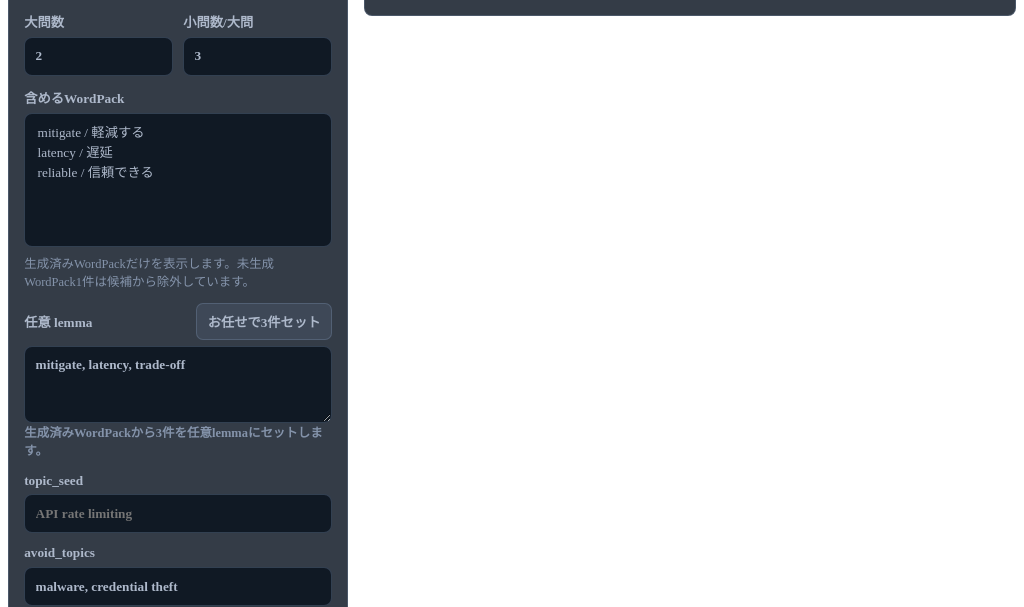
it: QuizPage › shows only generated WordPacks and auto-fills optional lemmas from them
(page scrolled)
Expected: the option "mitigate / 軽減する" is shown, [36, 122, 320, 142]
Expected: the option "latency / 遅延" is shown, [36, 142, 320, 162]
Step 1. Clear the text box labelled "任意 lemma" → (178, 384), box [24, 346, 332, 423]
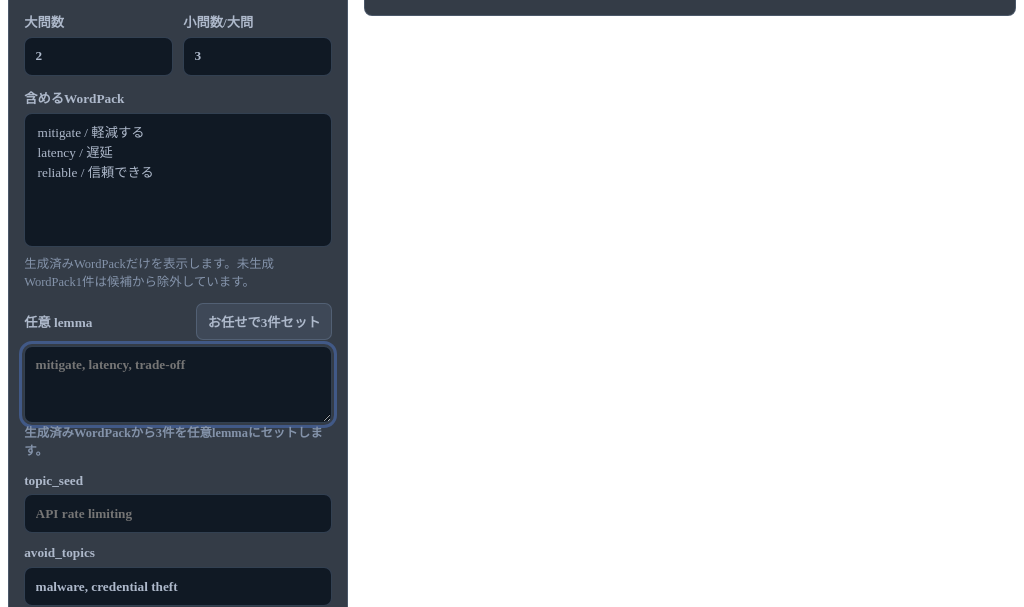
Step 2. Click the button "お任せで3件セット" → (264, 322), box [196, 303, 332, 340]
(page scrolled)
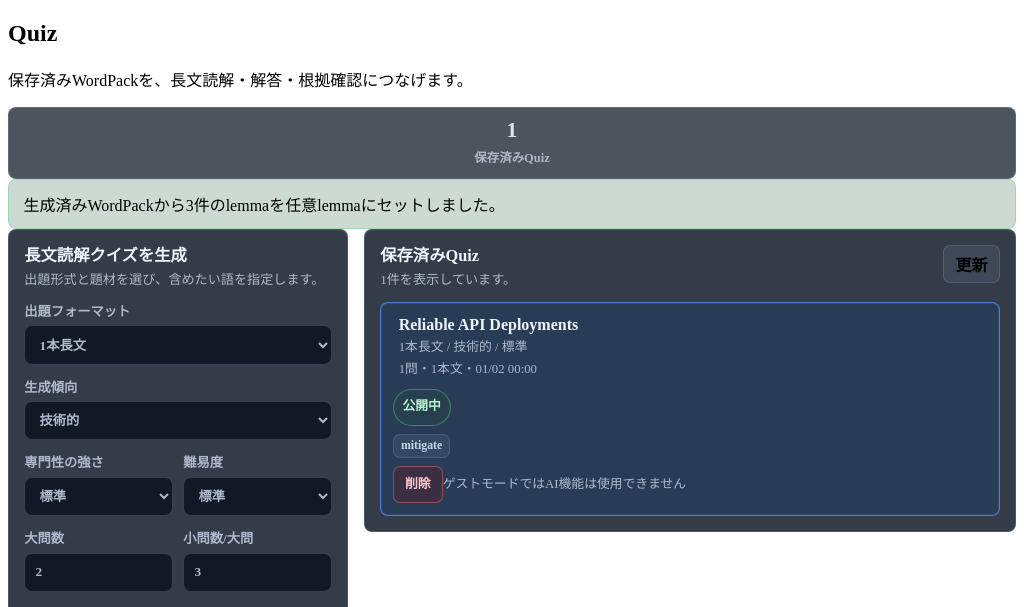
Expected: the text "生成済みWordPackから3件のlemmaを任意lemmaにセットしました。" is shown, [8, 179, 1016, 229]
